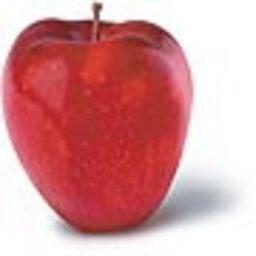apple: (0, 20, 191, 238)
